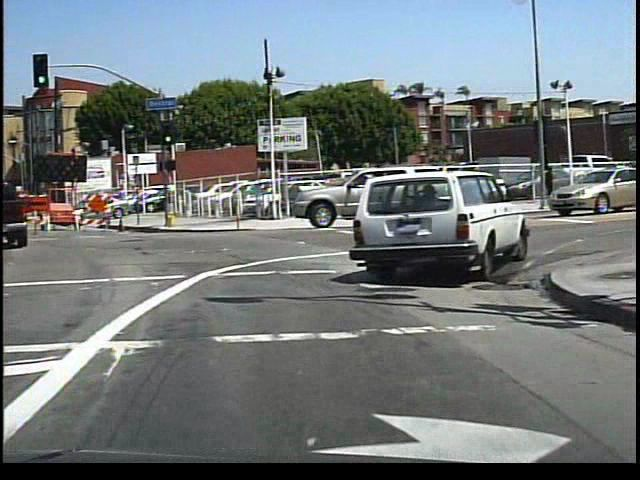person: (539, 163, 558, 206)
